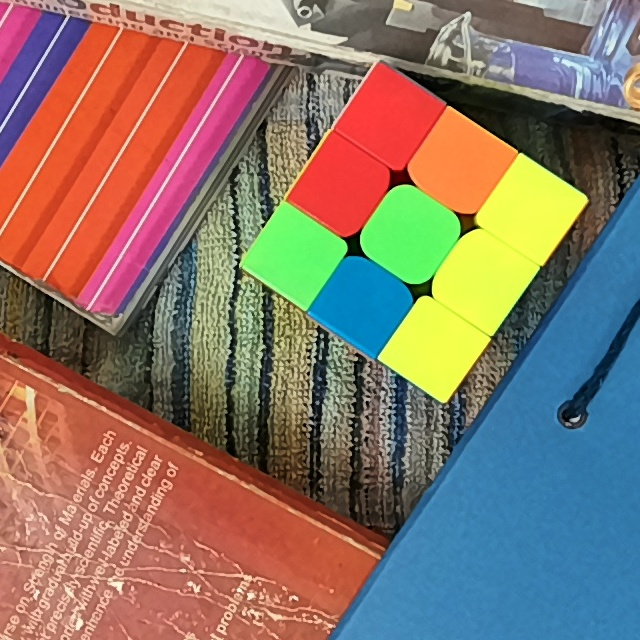tile: (380, 205, 438, 265), (333, 275, 394, 331), (266, 227, 322, 285), (458, 249, 511, 310), (507, 181, 562, 239), (433, 136, 490, 191), (314, 157, 370, 212), (361, 92, 418, 145), (406, 323, 463, 376)
